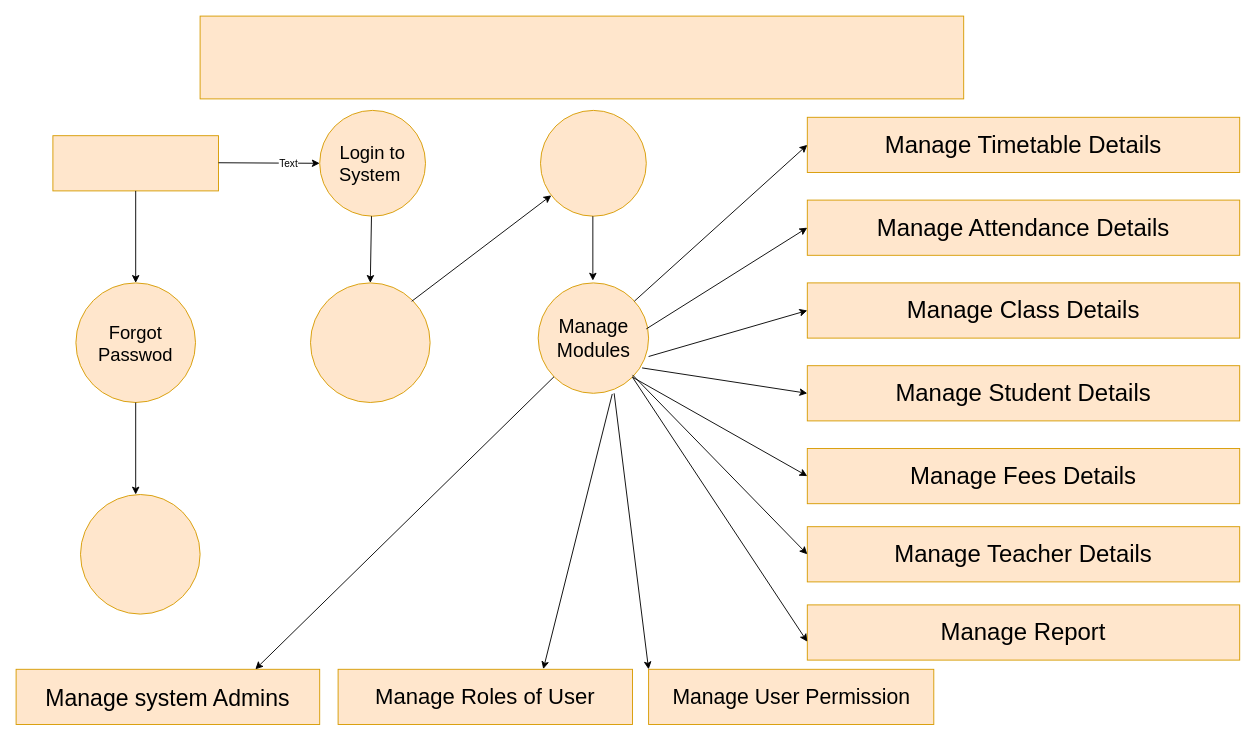
This 1256x741 diagram has some shape labels left out. Each missing label, with the box of its shape:
Admin: (52, 135, 218, 191)
Check Credentials: (310, 282, 430, 402)
Check Roles of Access: (540, 109, 646, 216)
Send Email to User: (80, 494, 200, 614)
Student Information System: (199, 15, 964, 99)
